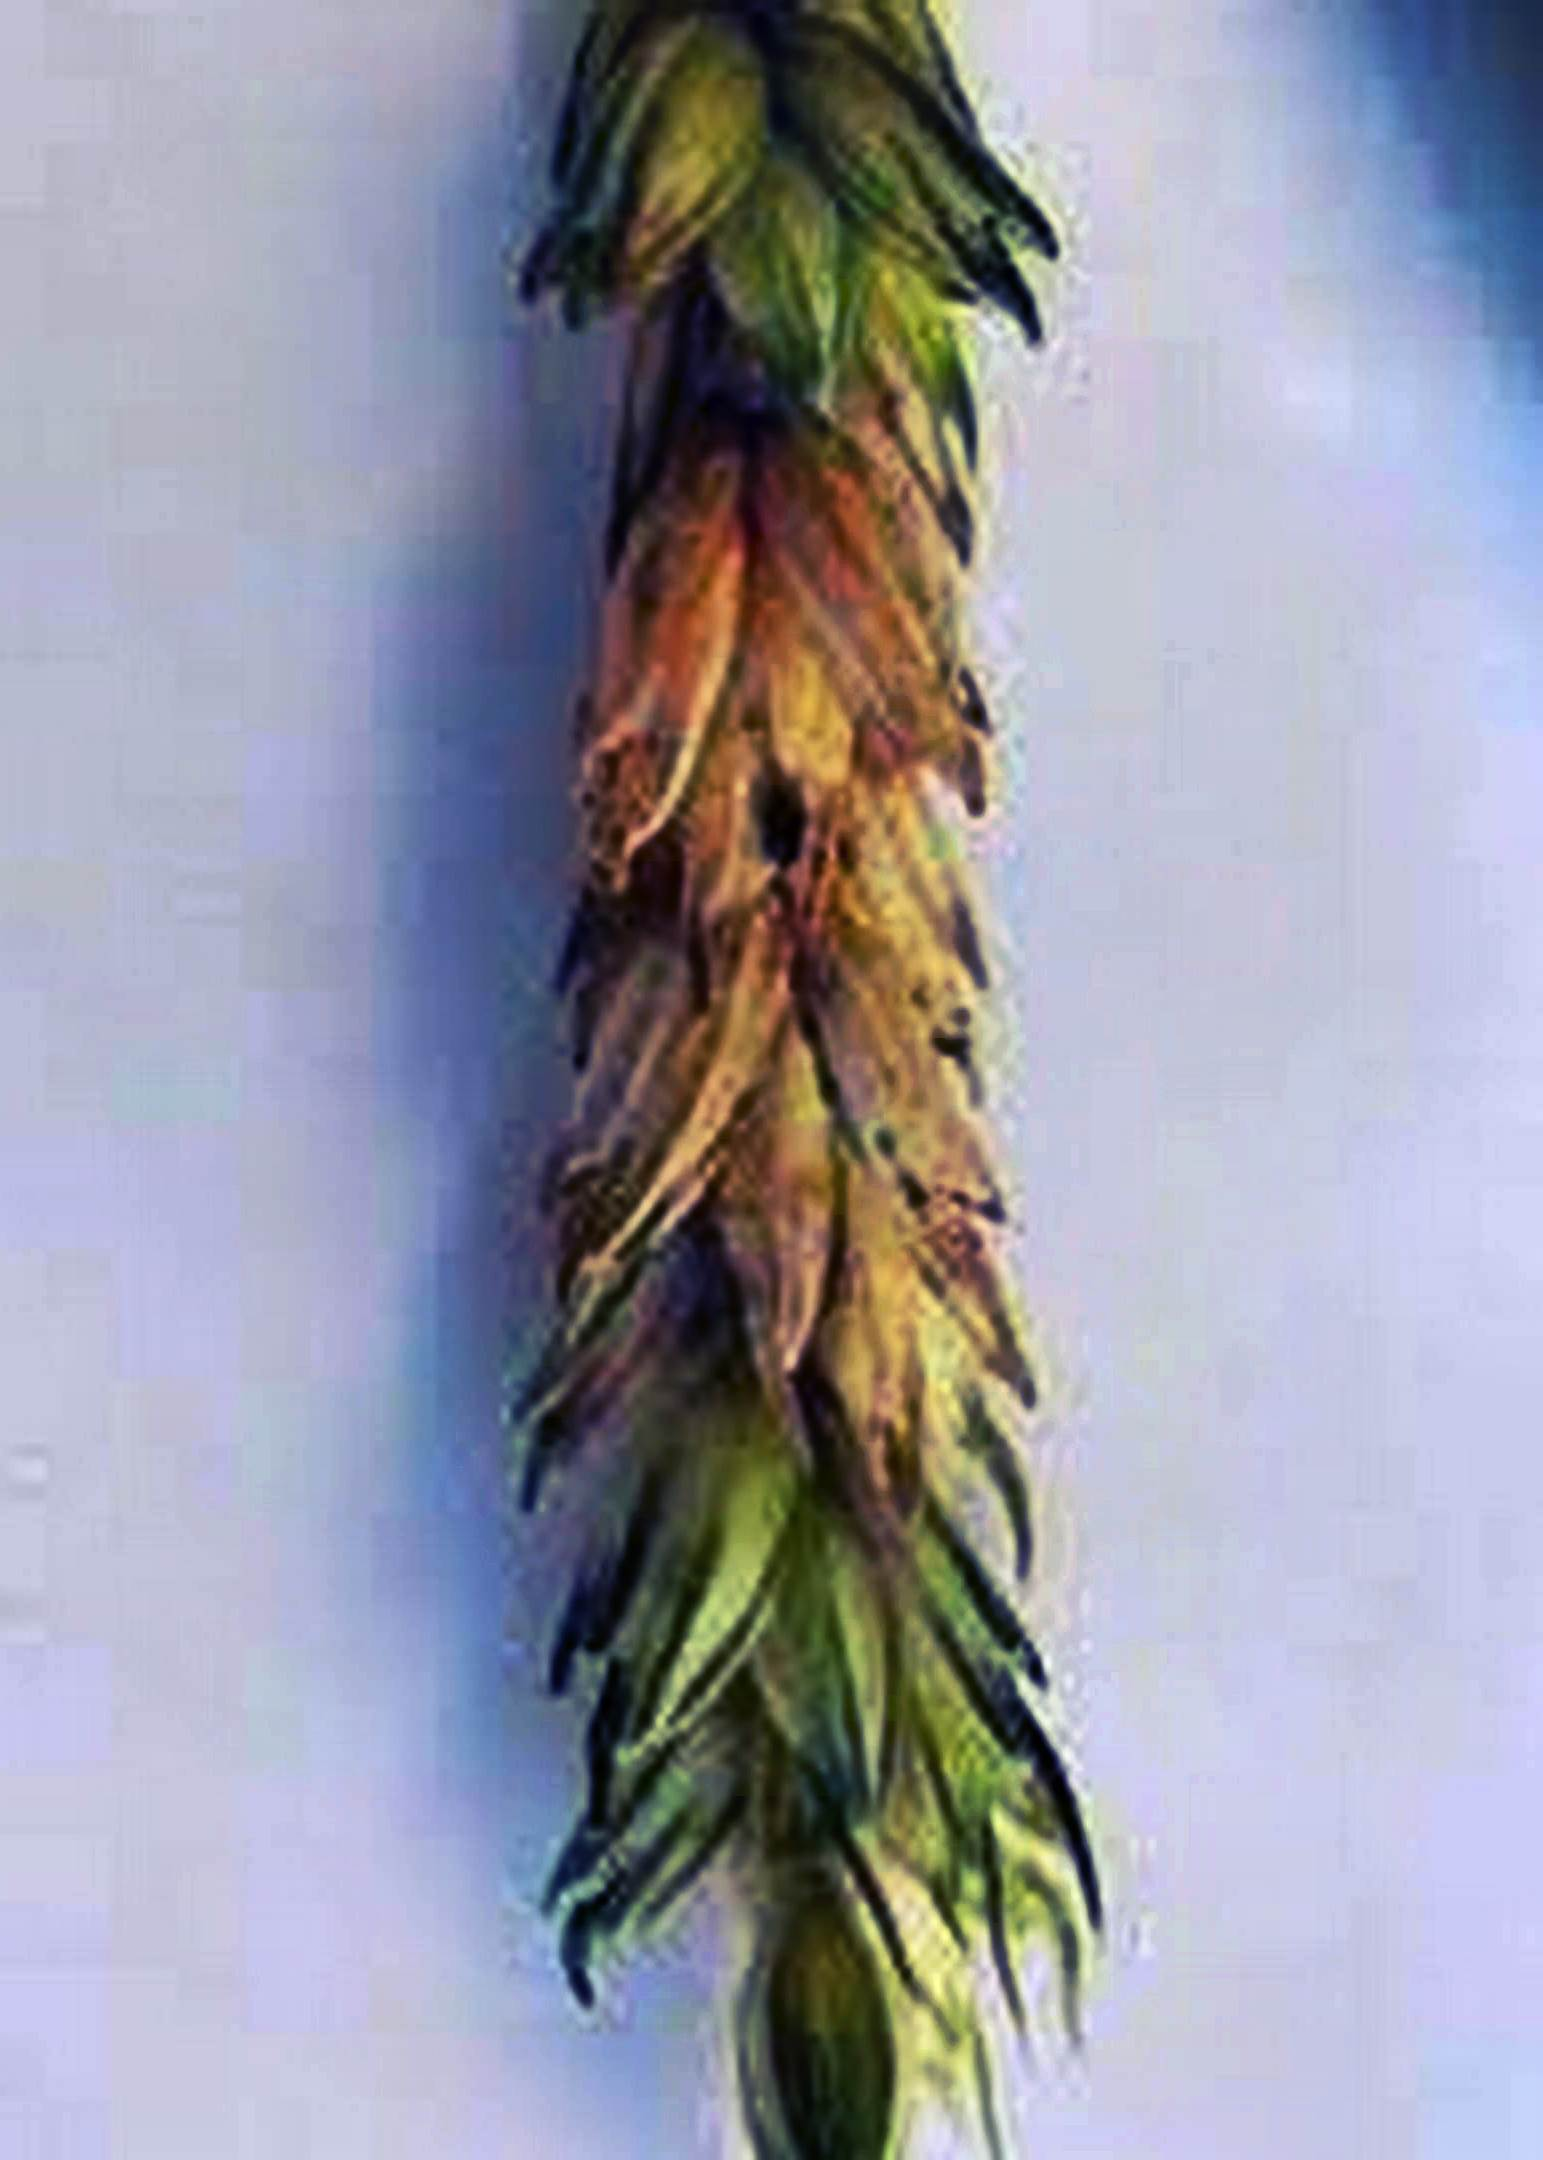Wheat scab: (488, 3, 1119, 2070)
